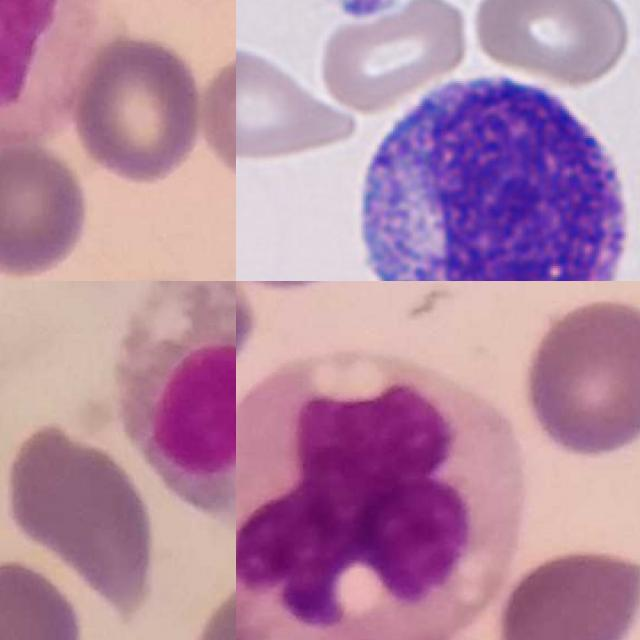Eosinophil: (110, 281, 236, 510)
Lymphocyte: (337, 59, 640, 281)
Monocyte: (236, 350, 527, 640), (0, 0, 108, 160)
Platelets: (336, 0, 402, 22)
RBC: (315, 0, 473, 114), (236, 40, 363, 166), (467, 0, 634, 86)
